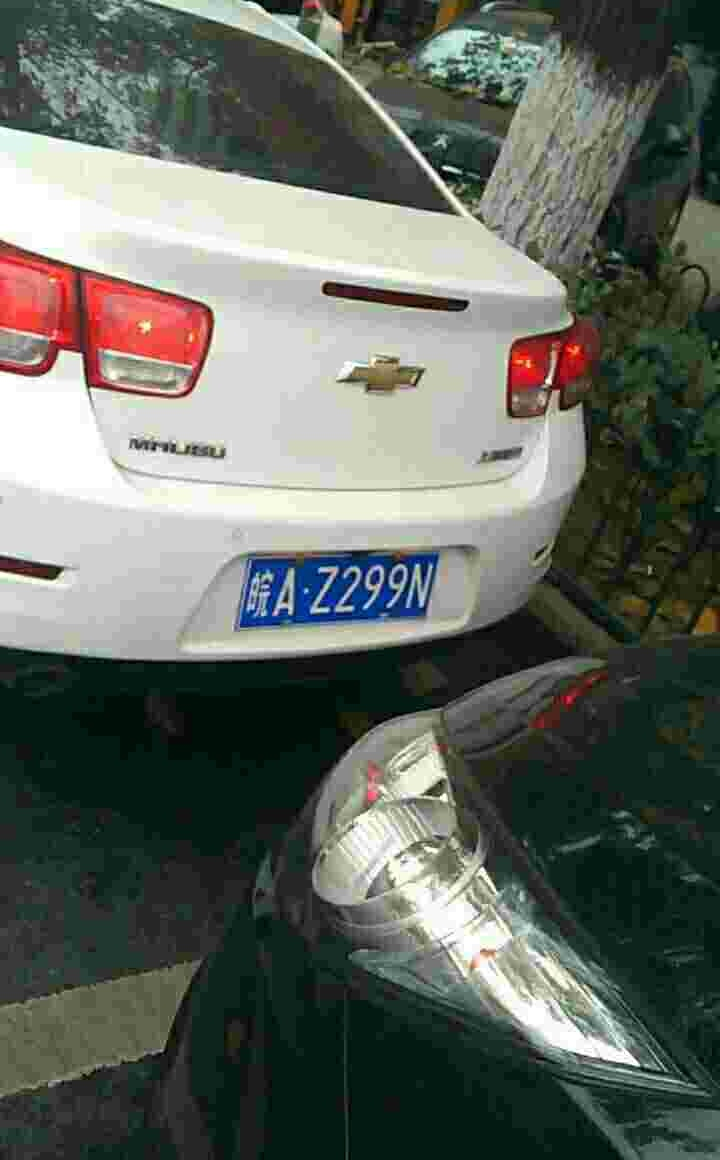license_plate: (244, 560, 438, 626)
